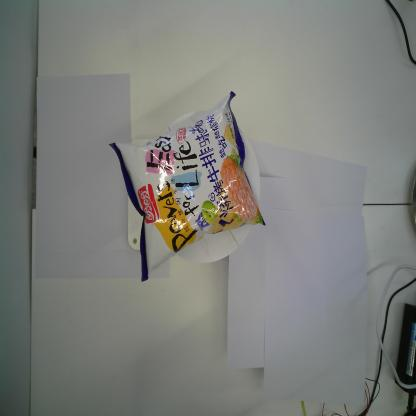Puffed Food: (108, 90, 268, 283)
